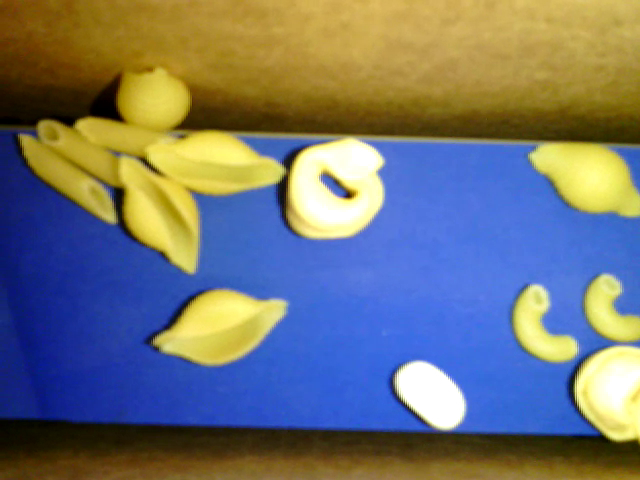elbow: (509, 282, 578, 363), (584, 273, 639, 344)
penne: (17, 133, 116, 223), (36, 120, 127, 187), (74, 115, 181, 157)
shell: (151, 285, 288, 367), (118, 154, 200, 274), (145, 131, 287, 196), (527, 141, 639, 218), (116, 67, 191, 131)
tortellini: (285, 137, 388, 239), (572, 344, 639, 442)
